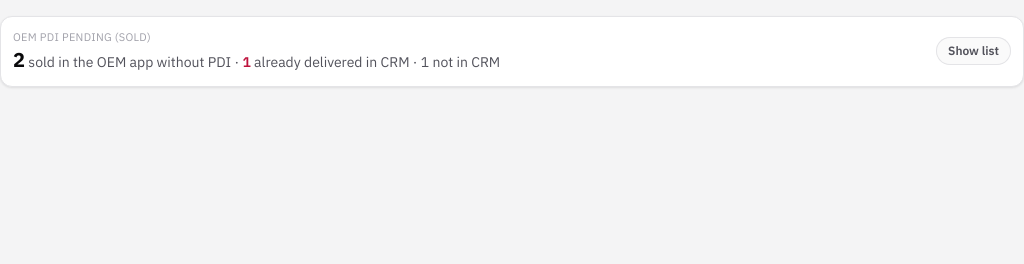
Test: shows OEM PDI-pending counts and lists rows on demand
Later steps or results of the test are not shown.
Expected: the text with test id "oem-pdi-total" reads "2", [13,46,25,72]
Expected: the text with test id "oem-pdi-delivered" reads "1", [242,52,251,70]
Click the button with test id "oem-pdi-toggle" at coordinates (974, 51), box [936,37,1011,65]
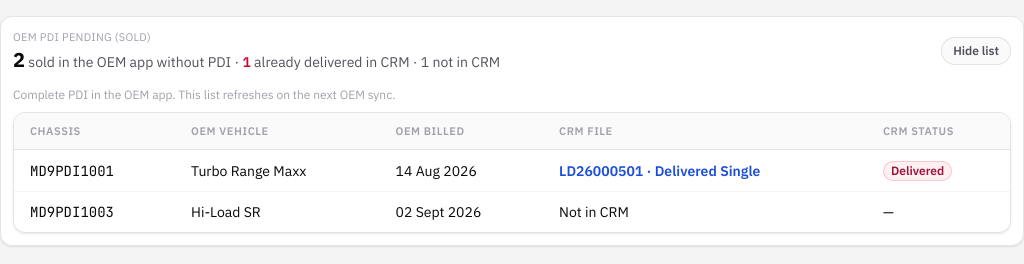
Expected: the text "not in CRM" is shown, [429,52,500,70]
Expected: the text "MD9PDI1001" is shown, [14,150,175,192]
